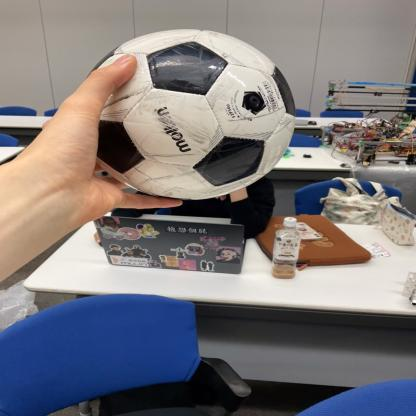ball: (115, 29, 294, 200)
